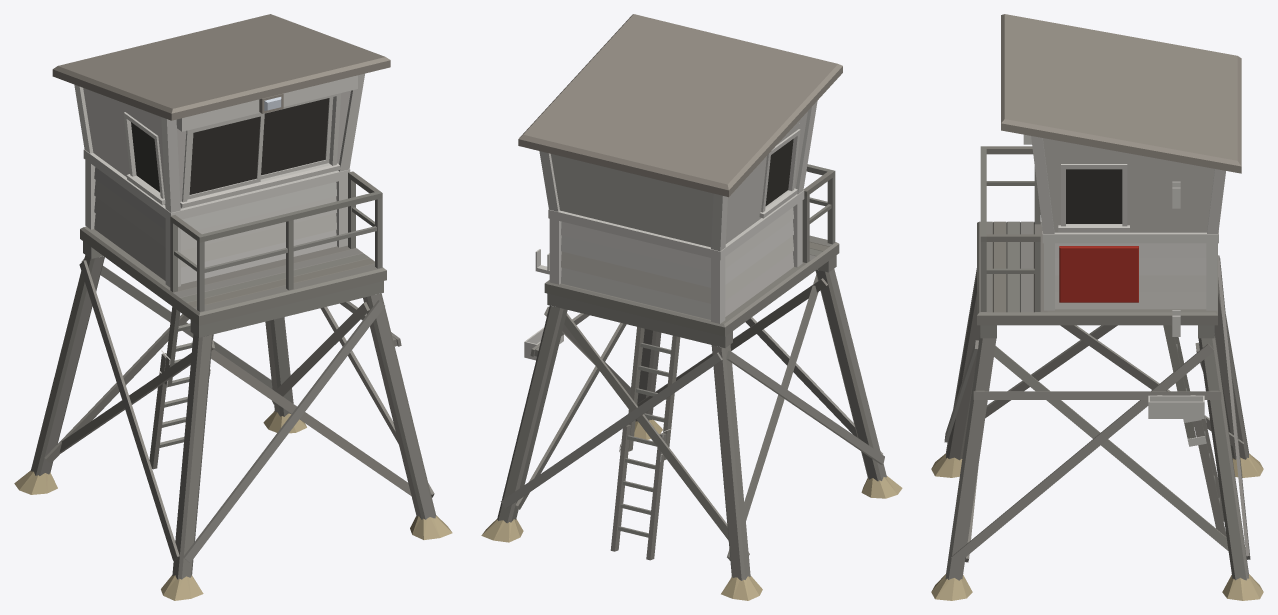
File: lifeguard-tower-183c37.glb
3 renders of one model, left to right at view 1: azimuth 30°, elevation 25°; view 2: azimuth 150°, elevation 25°; view 3: azimuth 270°, elevation 25°, orthographic. The views are drawn at different scales.
Parts seen in each view (by area): view 1: tower-shell; view 2: tower-shell; view 3: tower-shell.
Boxes of the visible parts, box(x1,y1,x2,y2) form: tower-shell: box(14, 14, 452, 600); tower-shell: box(481, 14, 902, 600); tower-shell: box(931, 14, 1263, 600).
Size of the model in its own units: 4 by 6.16 by 4.
